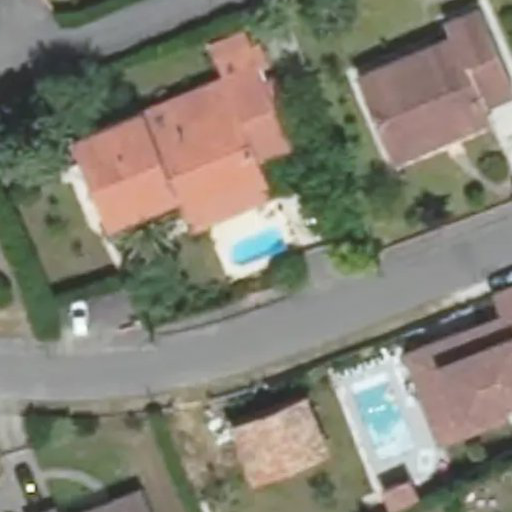pool: (223, 238, 286, 245)
